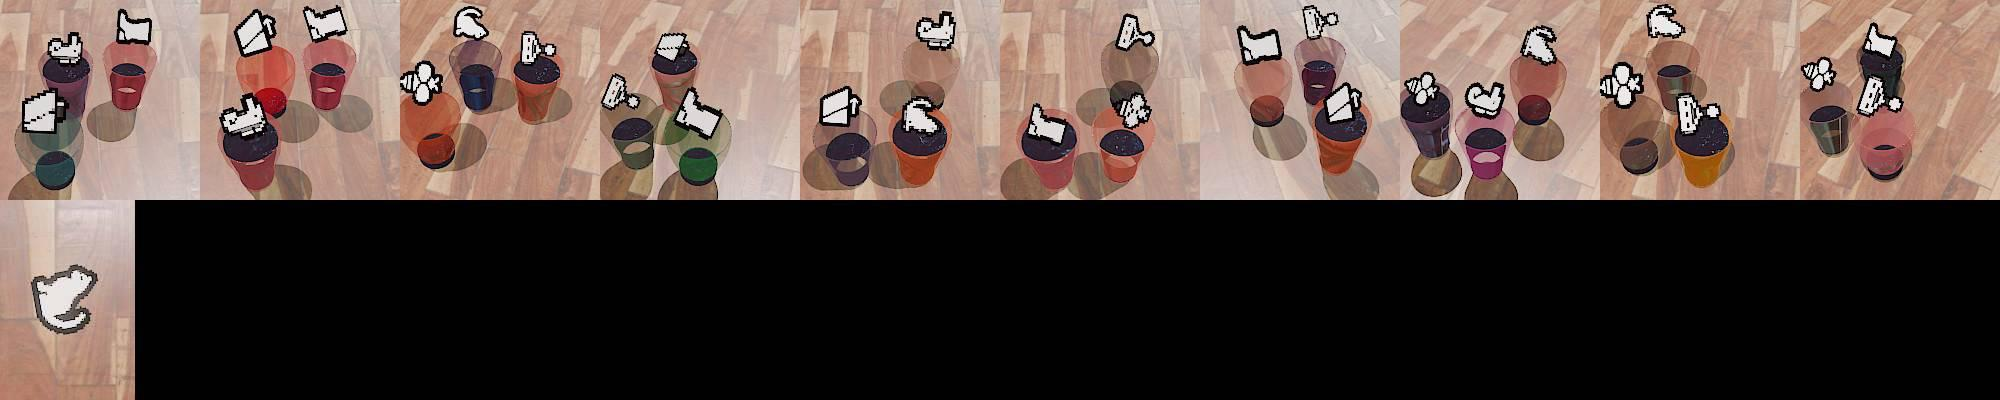icon: (29, 264, 98, 334), (672, 85, 724, 138), (19, 88, 70, 135), (218, 90, 270, 136), (1599, 61, 1645, 108), (233, 8, 277, 57), (399, 59, 445, 104), (1024, 102, 1071, 146), (1856, 75, 1906, 117), (1323, 79, 1365, 125), (1676, 93, 1721, 135), (915, 10, 958, 52), (1237, 24, 1282, 65), (899, 97, 941, 139), (1518, 24, 1560, 66), (819, 85, 861, 127), (302, 4, 348, 42), (654, 31, 696, 70), (1115, 11, 1156, 51), (1112, 89, 1154, 127), (1464, 79, 1506, 117), (518, 29, 559, 68), (1647, 3, 1686, 41), (601, 73, 640, 110), (46, 31, 85, 68), (1403, 71, 1443, 107), (452, 5, 489, 42), (116, 9, 153, 46), (1301, 4, 1341, 38), (1862, 23, 1898, 59), (1801, 57, 1838, 92)
